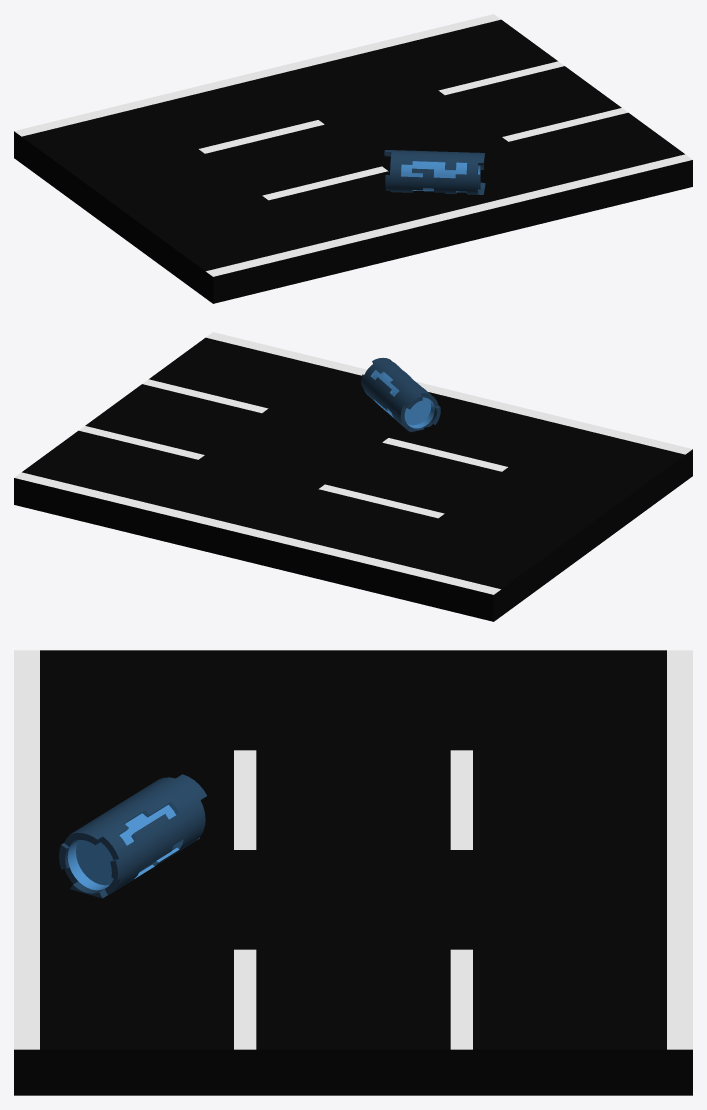
Rendered from Route Tronc V1.fbx.
3 renders of one model, top to bottom at view 1: azimuth 30°, elevation 25°; view 2: azimuth 150°, elevation 25°; view 3: azimuth 270°, elevation 25°, orthographic. The views are drawn at different scales.
Parts seen in each view (by area): view 1: Route Tronc V1; view 2: Route Tronc V1; view 3: Route Tronc V1.
Part boxes in pixels (<box>): Route Tronc V1: <box>14,14,692,303</box>; Route Tronc V1: <box>14,332,692,621</box>; Route Tronc V1: <box>14,650,692,1095</box>.
Bounding box in the file's own units: 501 × 61.93 × 360.
